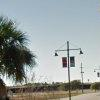Palm tree: (2, 8, 40, 100)
